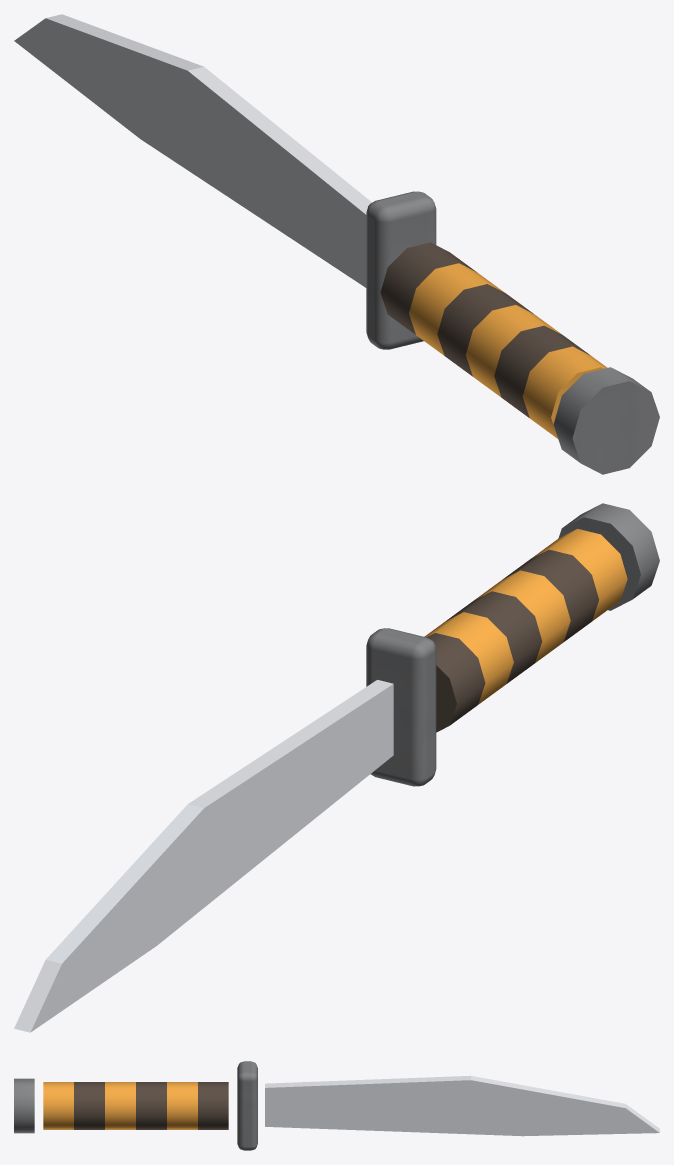
File: knife.gltf
3 views of the same model, one above another, from view 1: azimuth 30°, elevation 25°; view 2: azimuth 150°, elevation 25°; view 3: azimuth 270°, elevation 25° (orthographic). The views are drawn at different scales.
Parts seen in each view (by area): view 1: knife; view 2: knife; view 3: knife.
Boxes of the visible parts, x1=… form: knife: x1=14, y1=14, x2=659, y2=474; knife: x1=14, y1=503, x2=659, y2=1032; knife: x1=14, y1=1061, x2=659, y2=1150.
Bounding box in the file's own units: 0.032 × 0.05 × 0.376.
4 materials, 1 textured.
